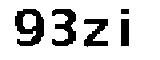3: (50, 7, 78, 48)
9: (9, 6, 45, 50)
i: (116, 4, 140, 53)
z: (80, 16, 110, 49)
